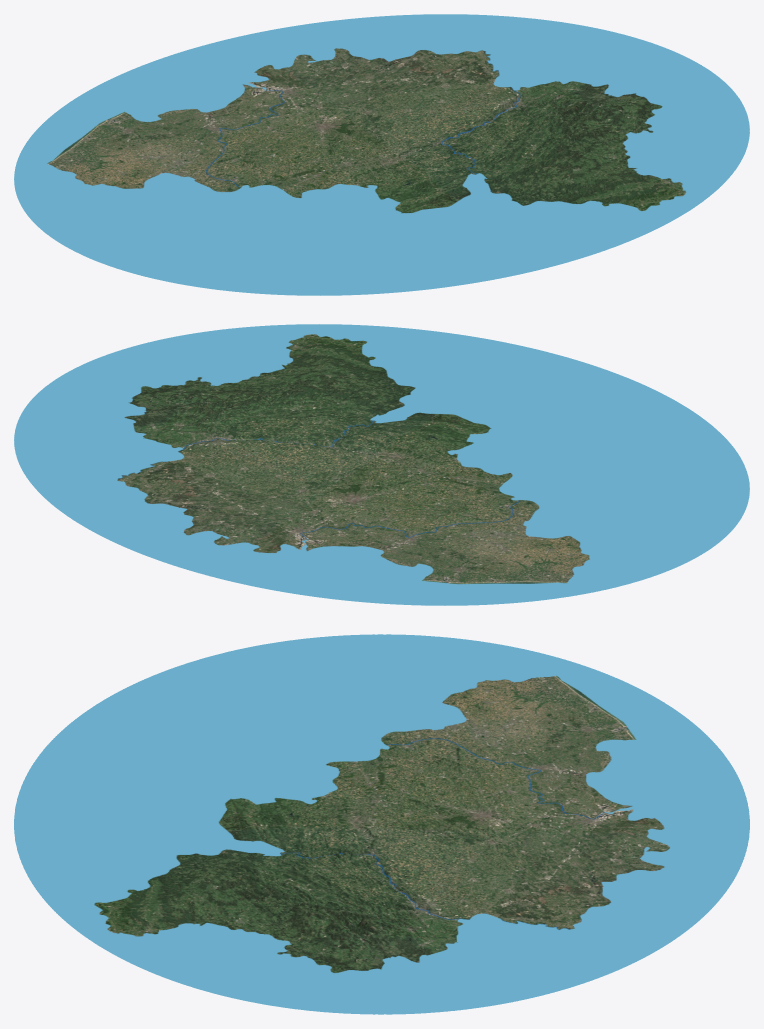
File: BEL-previa-terrain.glb
3 renders of one model, top to bottom at view 1: azimuth 30°, elevation 25°; view 2: azimuth 150°, elevation 25°; view 3: azimuth 270°, elevation 25°, orthographic. The views are drawn at different scales.
Visible parts, largest first — view 1: Bélgica; view 2: Bélgica; view 3: Bélgica.
Part boxes in pixels (bbox=[...]): Bélgica: bbox=[14, 14, 749, 295]; Bélgica: bbox=[14, 324, 749, 605]; Bélgica: bbox=[14, 634, 749, 1014].
Size of the model in its own units: 2.24 by 0.0298 by 1.83.
Materials: 1 (1 with a texture image).
